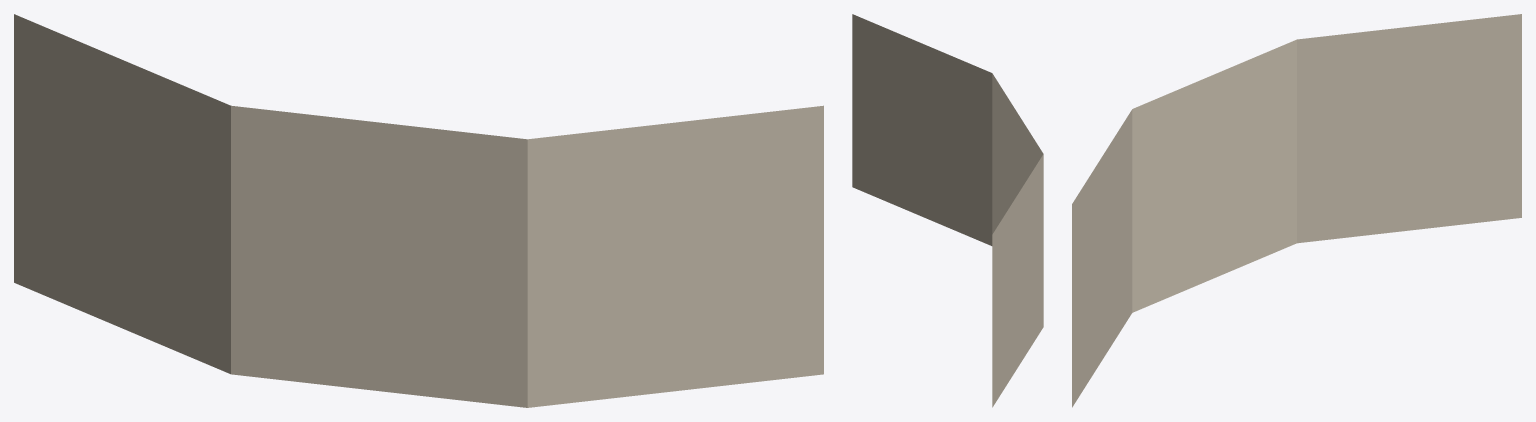
The model's file is Escarpment_Terrain_Corner_Inner_2x2_Mid.glb.
3 renders of one model, left to right at view 1: azimuth 30°, elevation 25°; view 2: azimuth 150°, elevation 25°; view 3: azimuth 270°, elevation 25°, orthographic. The views are drawn at different scales.
Visible parts, largest first — view 1: Escarpment_Terrain_Corner_Inner_2x2_Mid; view 2: Escarpment_Terrain_Corner_Inner_2x2_Mid; view 3: Escarpment_Terrain_Corner_Inner_2x2_Mid.
Boxes of the visible parts, bbox=[...] form: Escarpment_Terrain_Corner_Inner_2x2_Mid: bbox=[14, 14, 823, 407]; Escarpment_Terrain_Corner_Inner_2x2_Mid: bbox=[852, 14, 1043, 407]; Escarpment_Terrain_Corner_Inner_2x2_Mid: bbox=[1072, 14, 1521, 407].
Bounding box in the file's own units: 2 × 1 × 2.
